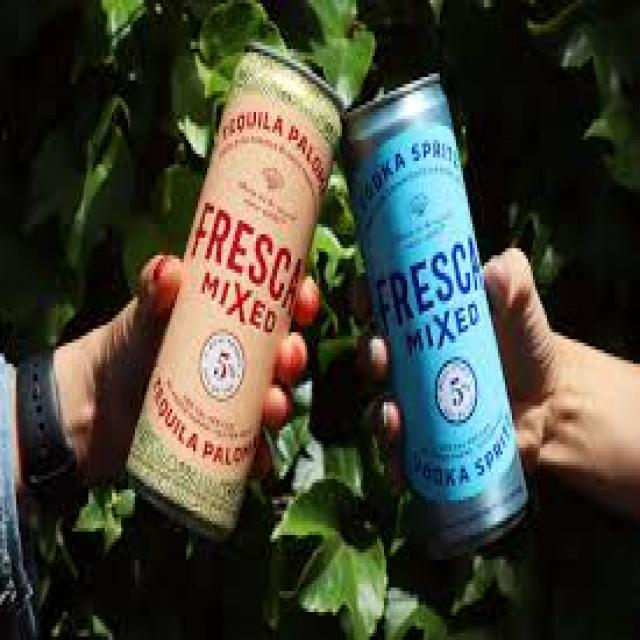Cans: (130, 38, 349, 546), (344, 53, 530, 556)
